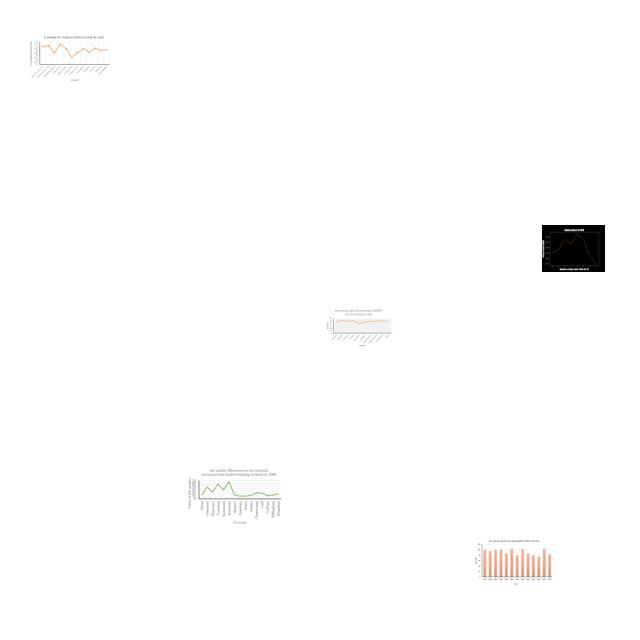Graph: (185, 467, 283, 526), (28, 34, 112, 84), (474, 539, 555, 586), (542, 225, 605, 272), (325, 308, 392, 347)
